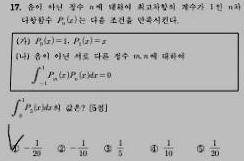choice: (7, 135, 23, 153)
not-choice: (148, 144, 159, 154), (56, 143, 66, 153), (102, 143, 112, 152), (196, 144, 205, 154)
